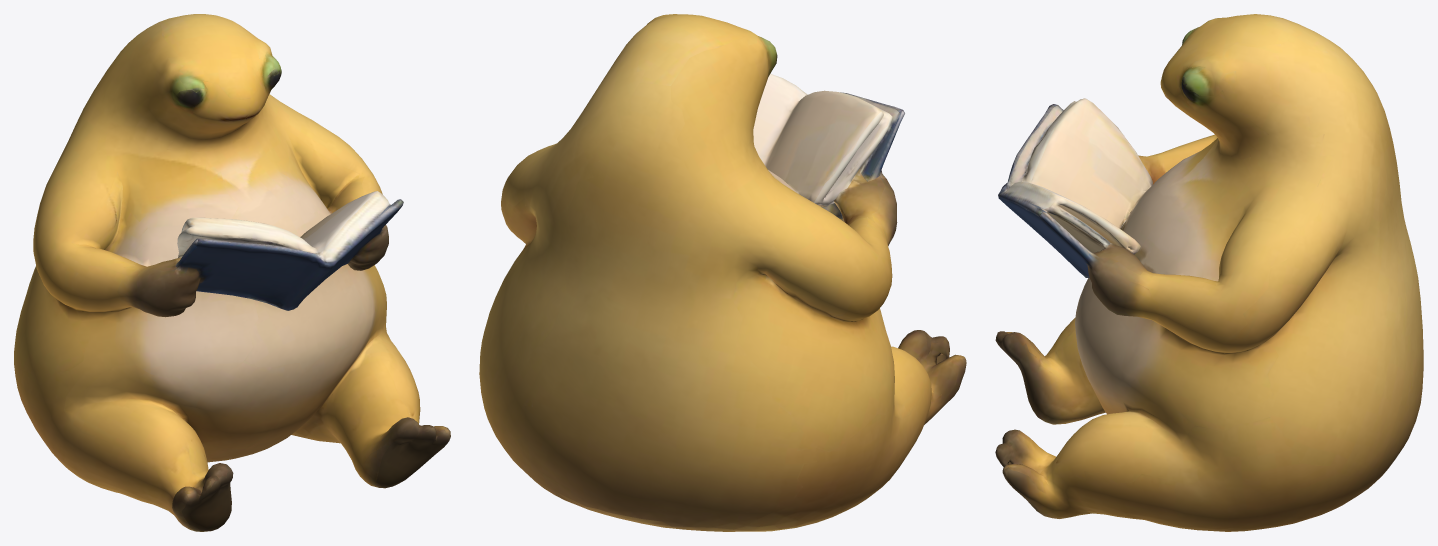
The model's file is reader.glb.
3 views of the same model, side by side, from view 1: azimuth 30°, elevation 25°; view 2: azimuth 150°, elevation 25°; view 3: azimuth 270°, elevation 25° (orthographic). The views are drawn at different scales.
Parts seen in each view (by area): view 1: geometry_0; view 2: geometry_0; view 3: geometry_0.
Boxes of the visible parts, left/top/right/bottom form: geometry_0: left=14, top=14, right=450, bottom=531; geometry_0: left=479, top=14, right=966, bottom=531; geometry_0: left=995, top=14, right=1423, bottom=531.
Size of the model in its own units: 0.1875 by 0.2193 by 0.1908.
Materials: 1 (1 with a texture image).
